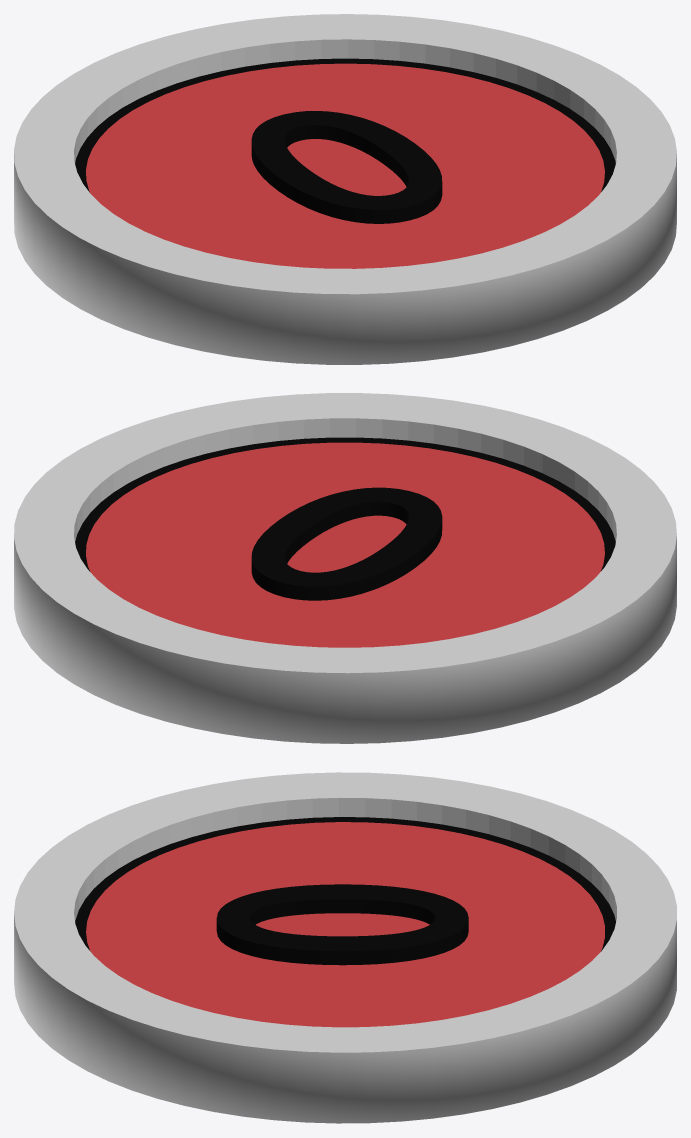
Rendered from stop-button.fbx.
The picture shows the model from 3 angles, top to bottom: view 1: azimuth 30°, elevation 25°; view 2: azimuth 150°, elevation 25°; view 3: azimuth 270°, elevation 25°; orthographic projection.
Visible parts, largest first — view 1: Ring, Stop-Button, Text; view 2: Ring, Stop-Button, Text; view 3: Ring, Stop-Button, Text.
Boxes of the visible parts, x1,y1,x2,y2 form: Ring: (14,14,676,364); Stop-Button: (75,58,615,268); Text: (251,111,442,223); Ring: (14,393,676,743); Stop-Button: (75,437,615,647); Text: (251,487,442,600); Ring: (14,772,676,1123); Stop-Button: (75,817,615,1027); Text: (216,884,468,965).
Bounding box in the file's own units: 2.44 × 0.2876 × 2.44.
